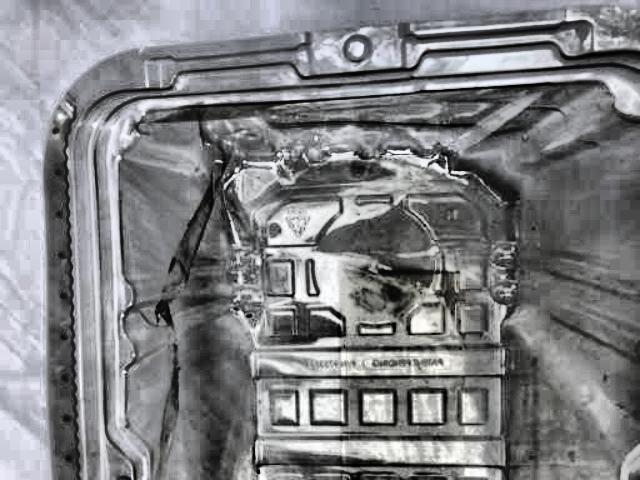Plastic: (40, 16, 640, 480)
